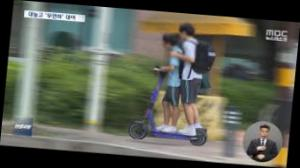multiple: (127, 19, 219, 147)
